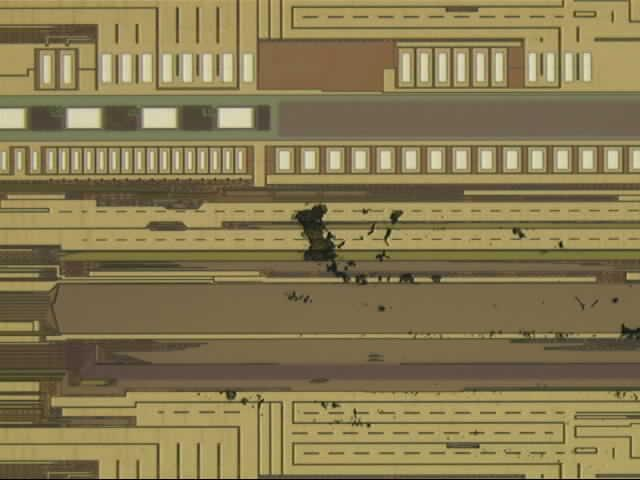PO CONTAMINATION: (188, 204, 640, 433)
